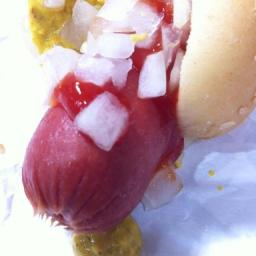hotdog: (20, 79, 172, 234)
